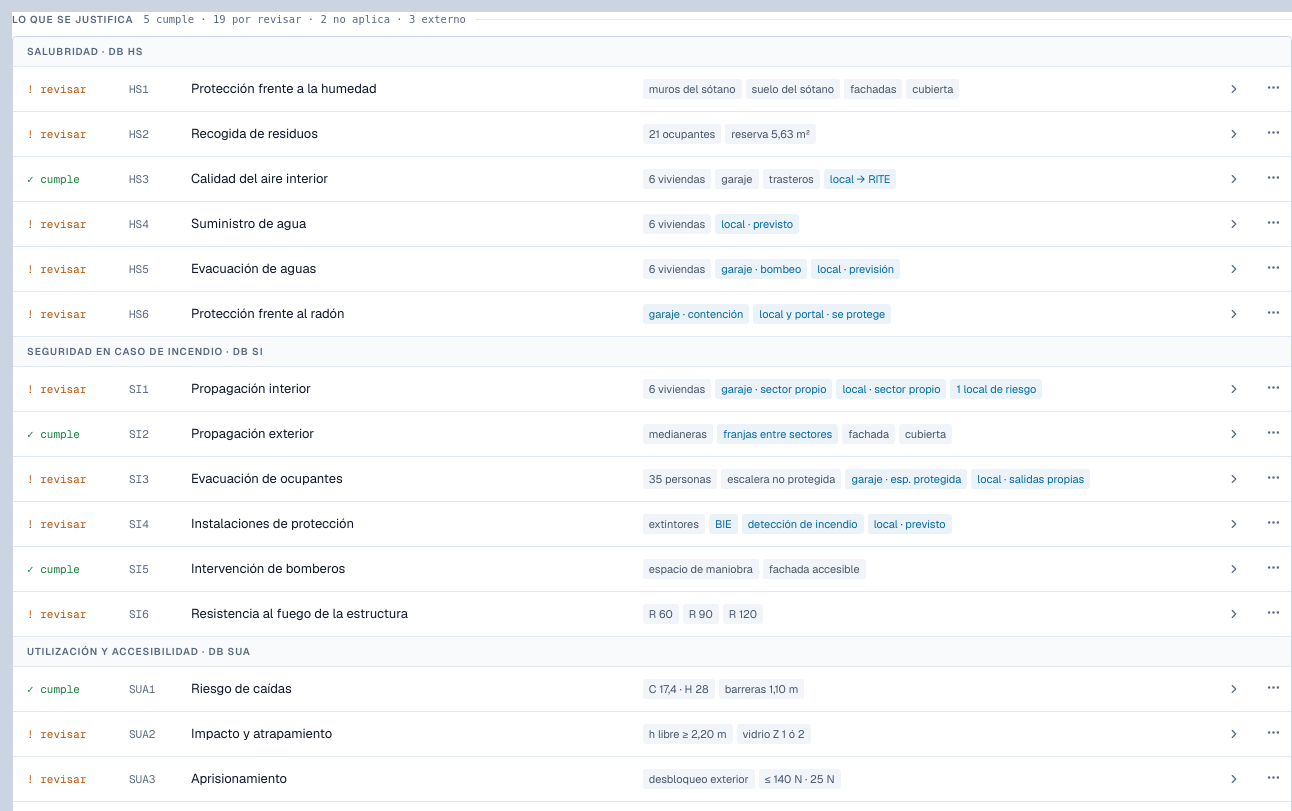
Test: Lo que se justifica › menú ⋯ de aplicabilidad › se cierra al pulsar fuera y con Escape; el botón lo alterna
Step 1. Click the button named "Opciones de aplicabilidad de HS4" → (1273, 222), box x1=1262 y1=211 x2=1284 y2=234
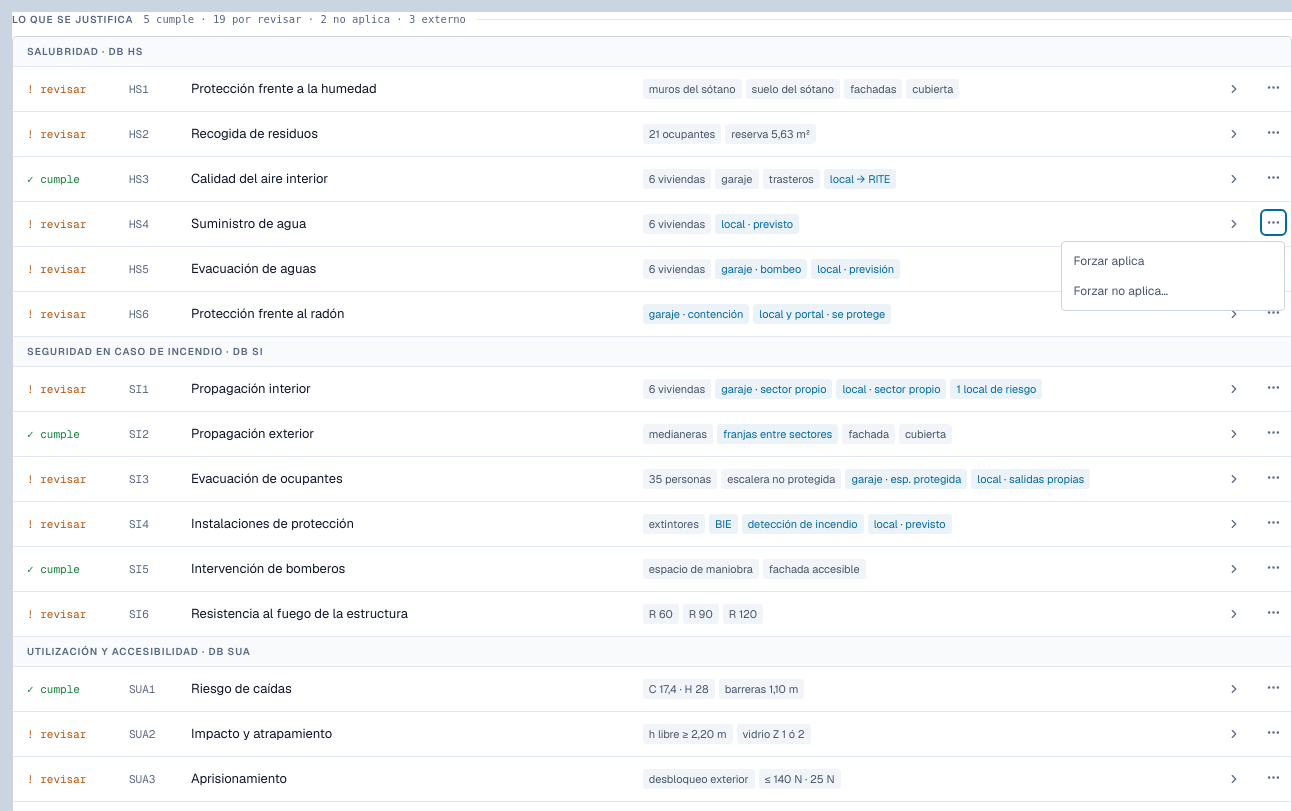
Check: the menu is shown, box x1=1060 y1=241 x2=1284 y2=311
Step 2. Click the heading "Lo que se justifica" → (73, 20), box x1=12 y1=12 x2=134 y2=27
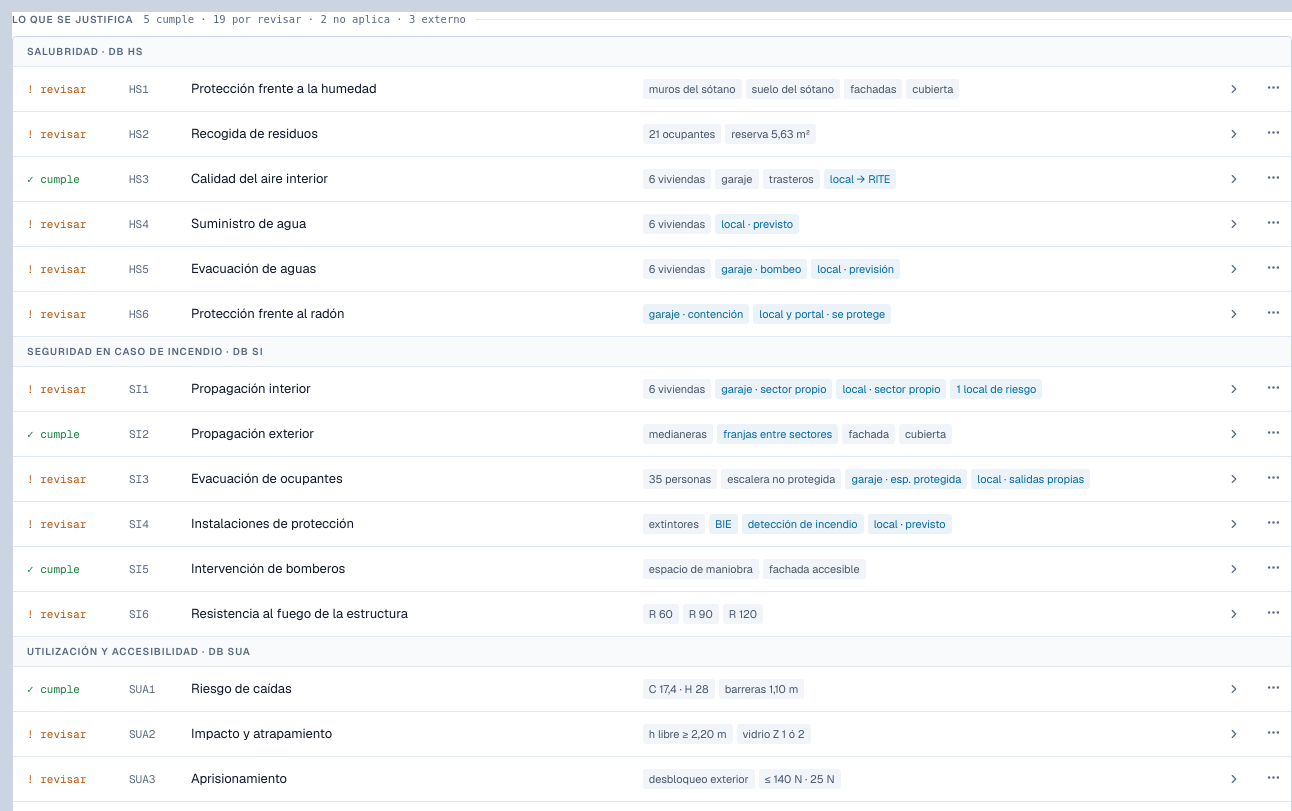
Check: the menu is gone
Step 3. Click the button named "Opciones de aplicabilidad de HS4" → (1273, 222), box x1=1262 y1=211 x2=1284 y2=234
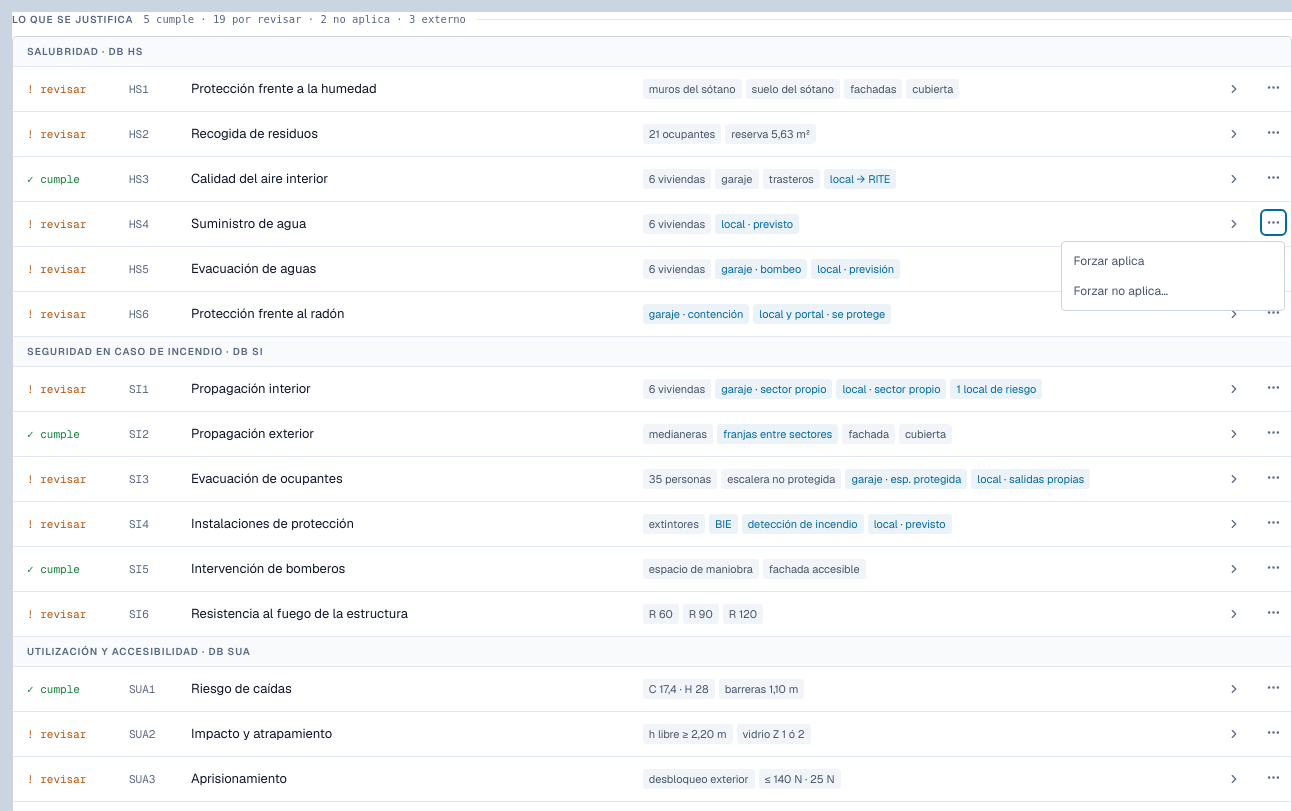
Step 4. Press Escape
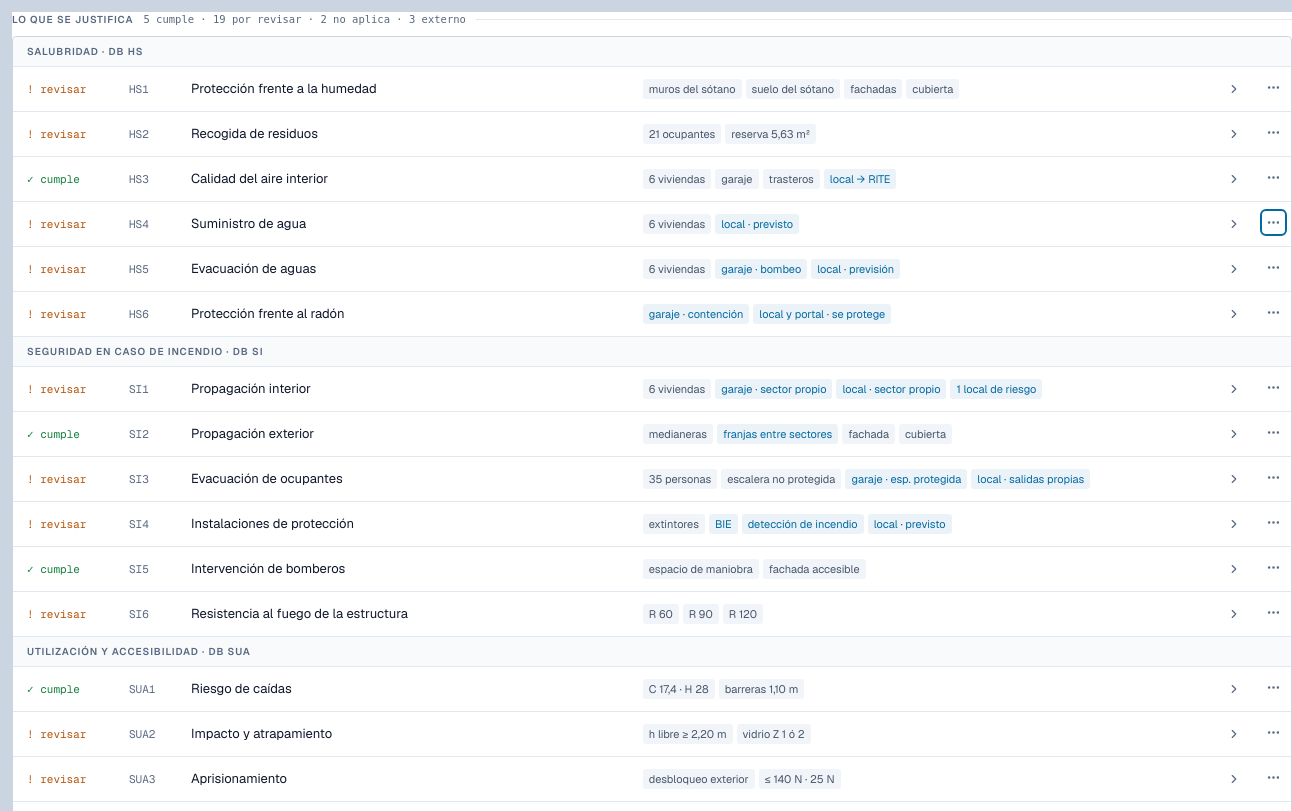
Check: the menu is gone
Step 5. Click the button named "Opciones de aplicabilidad de HS4" → (1273, 222), box x1=1262 y1=211 x2=1284 y2=234
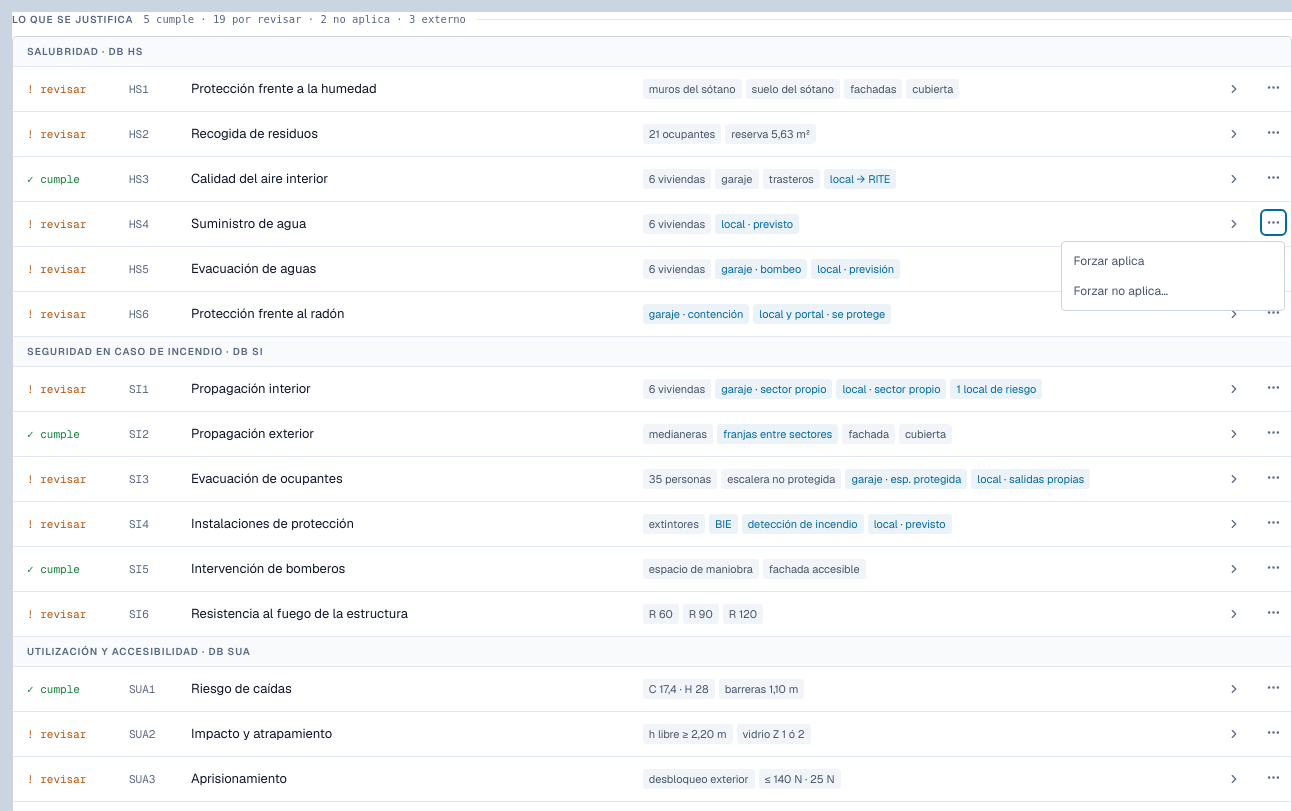
Step 6. Click the button named "Opciones de aplicabilidad de HS4" → (1273, 222), box x1=1262 y1=211 x2=1284 y2=234
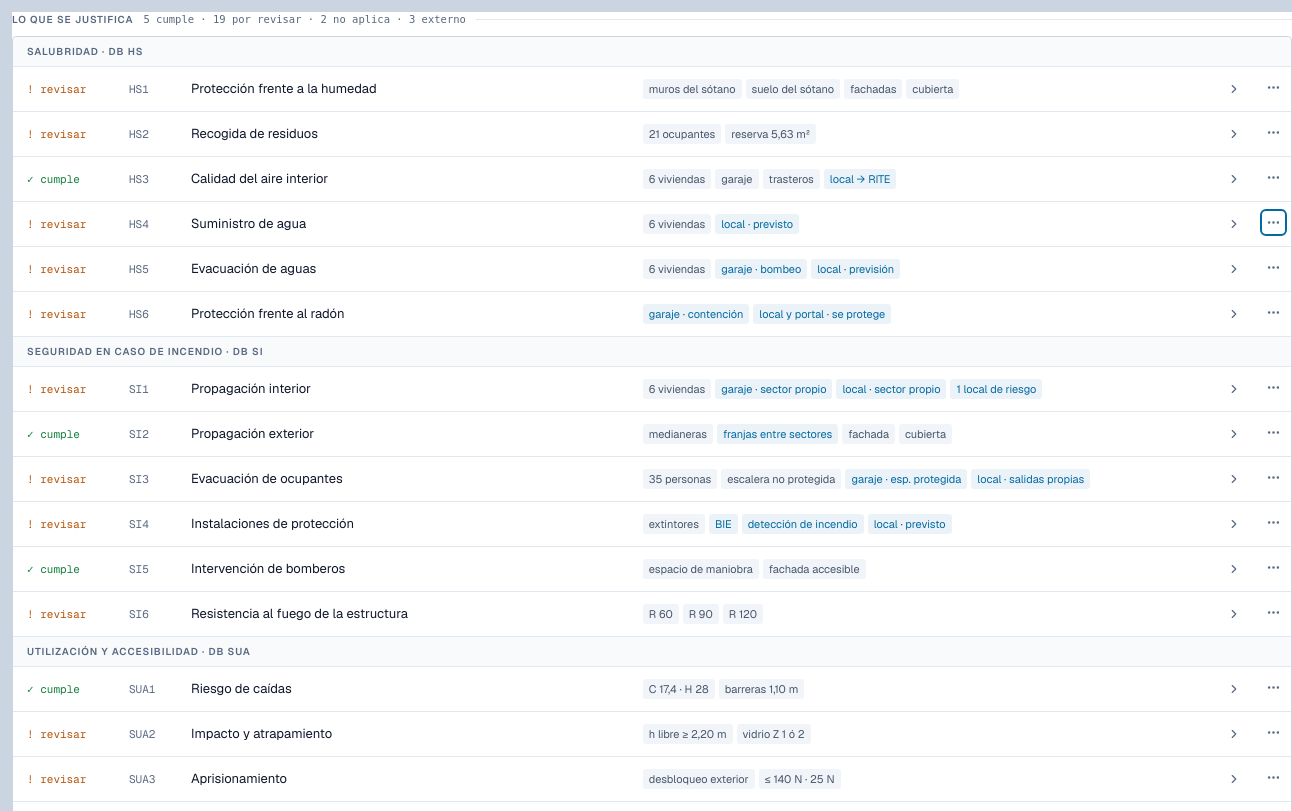
Check: the menu is gone
